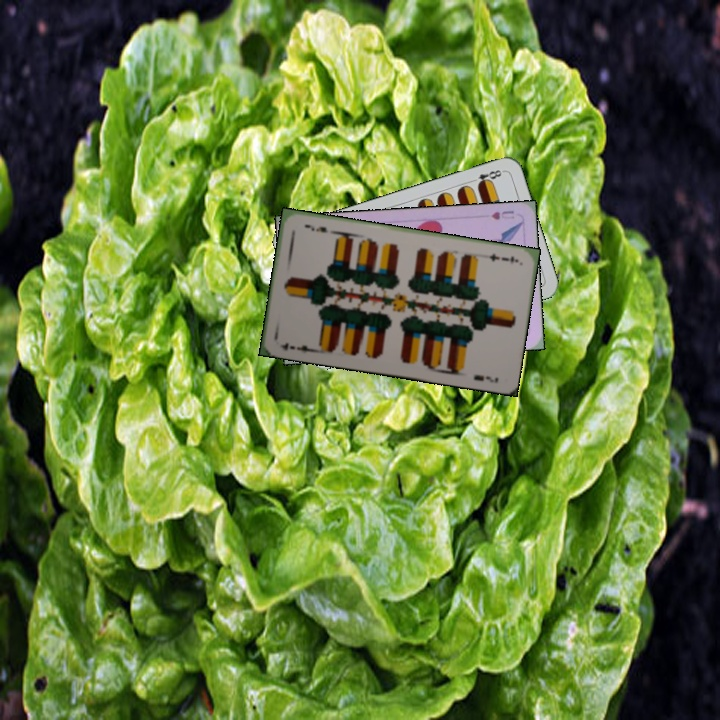E7: (485, 249, 521, 267), (276, 339, 316, 355)
E8: (466, 166, 506, 189)
HU: (487, 206, 517, 222)
